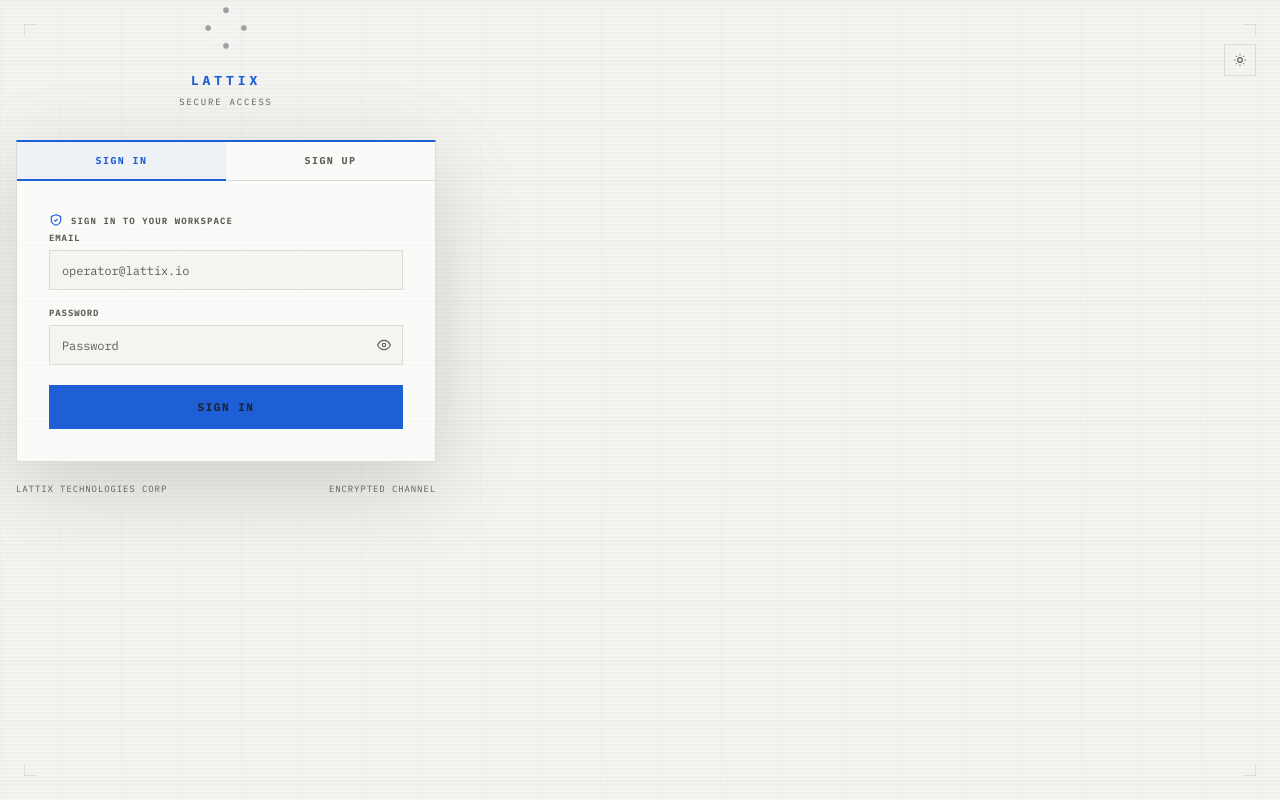
LattixAuthCard › falls back to the canonical copy when the server message is missing
Type "bad@lattix.io" into the field labelled "Email" at (226, 270), box [49, 250, 403, 290]
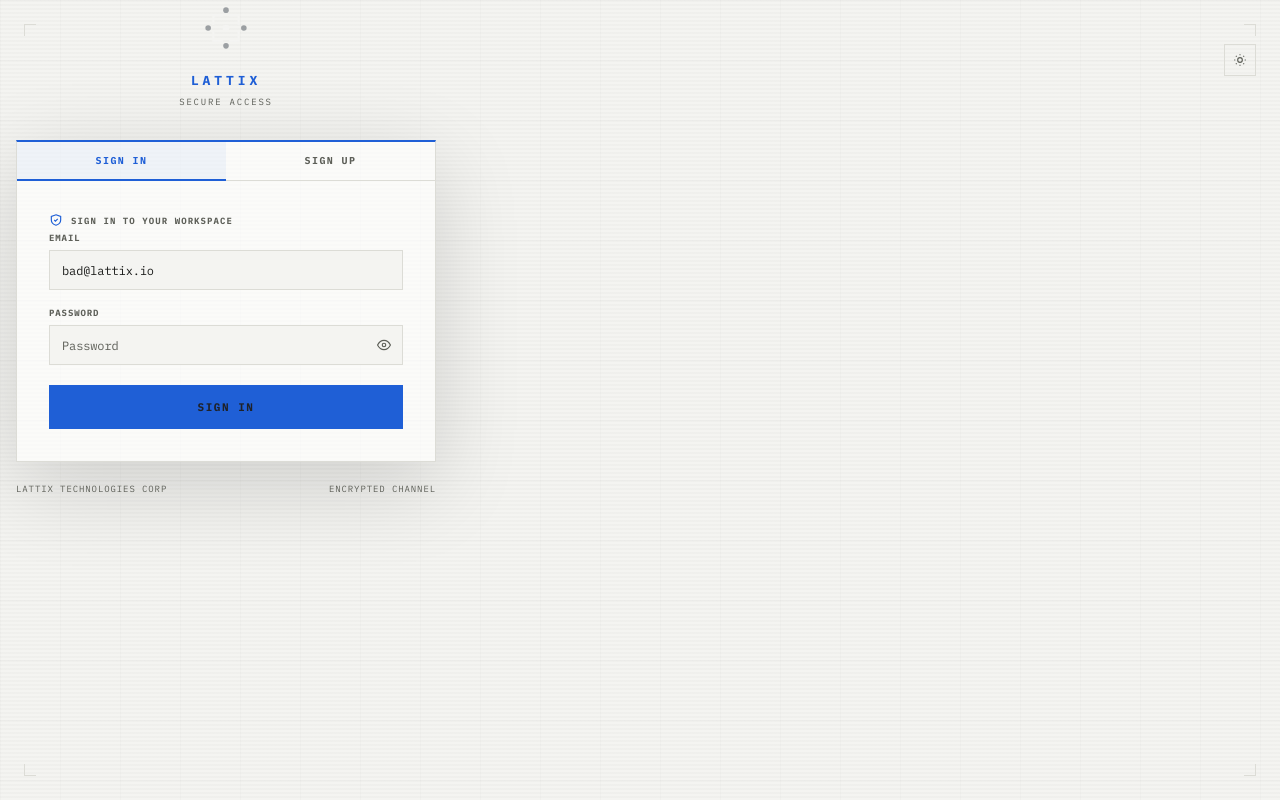
Type "nope" into the password field labelled "Password" at (226, 346), box [49, 326, 403, 366]
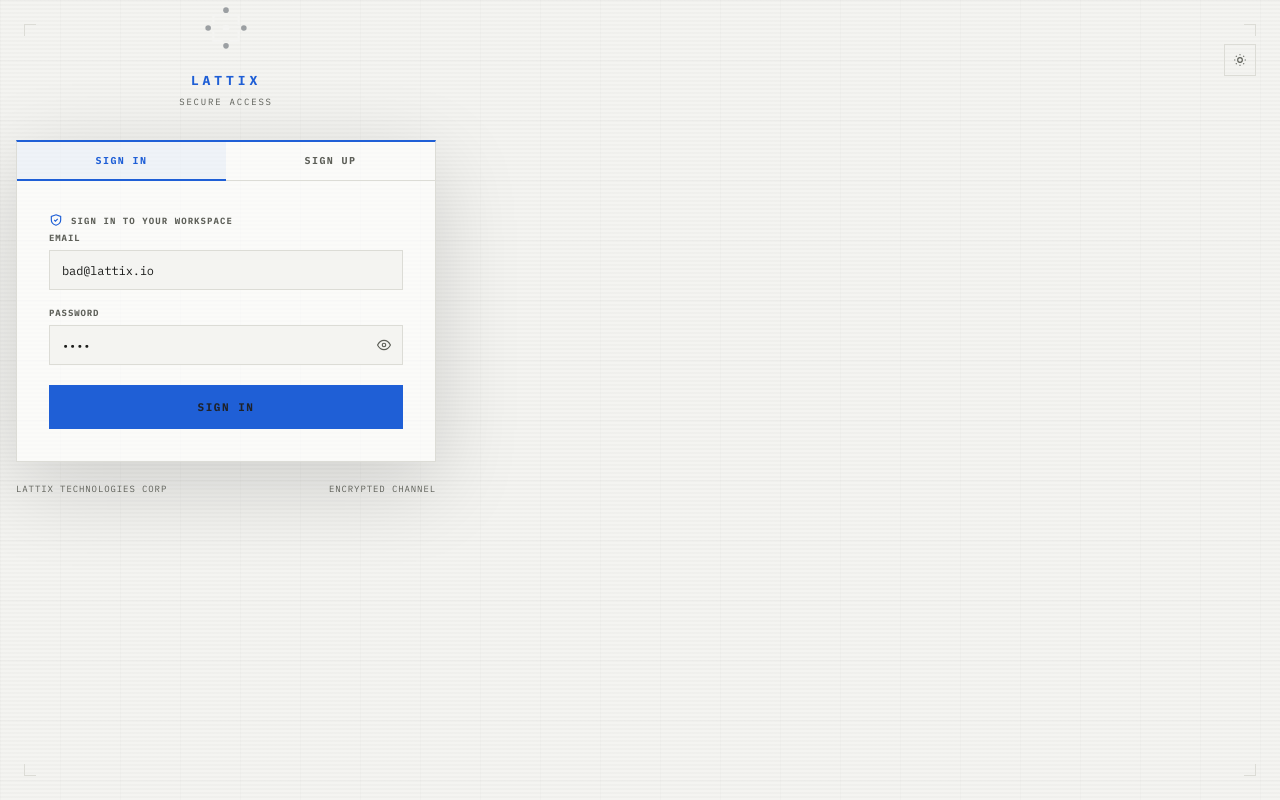
Click the button "Sign In" at (226, 408), box [49, 386, 403, 430]
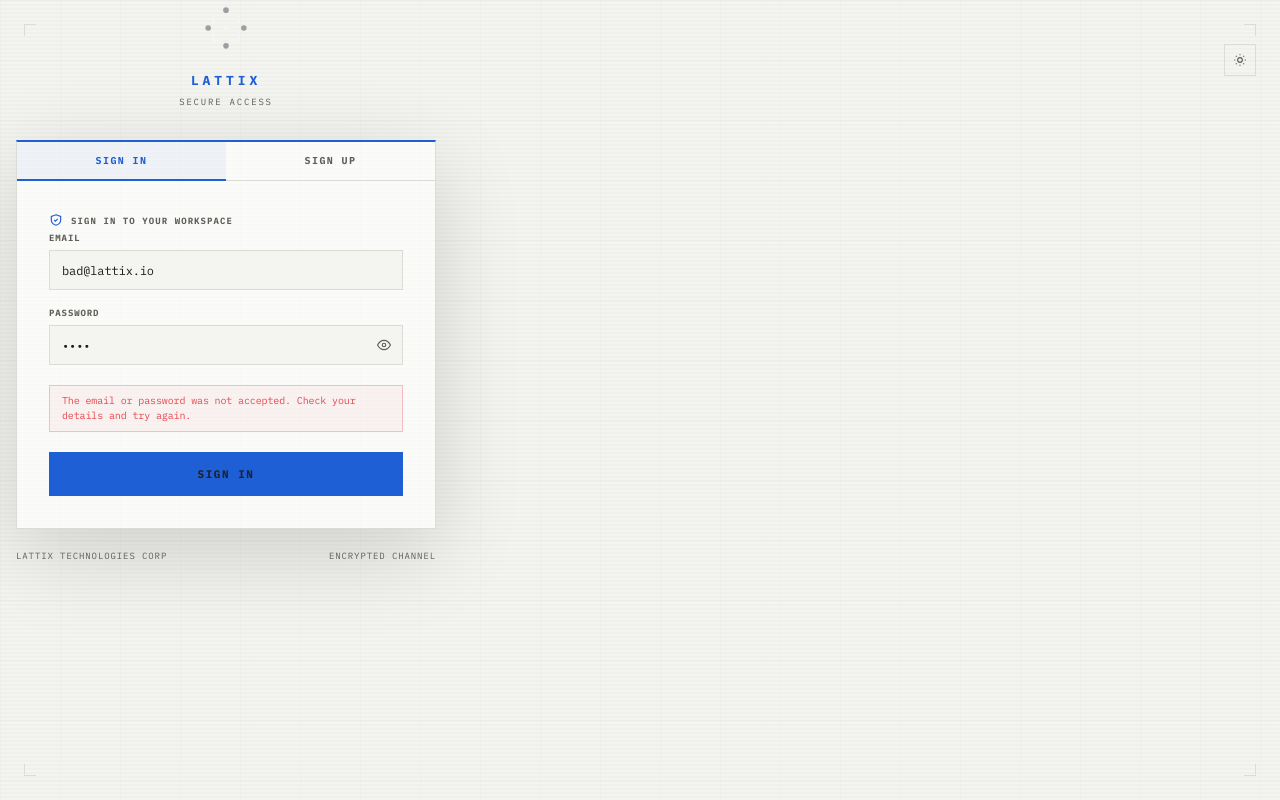
Check: the message shows "email or password was not accepted", box [62, 394, 356, 422]
